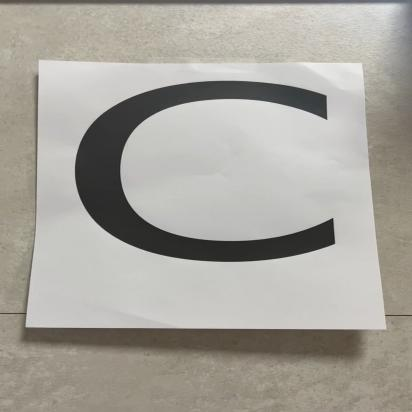seat: (37, 59, 371, 314)
